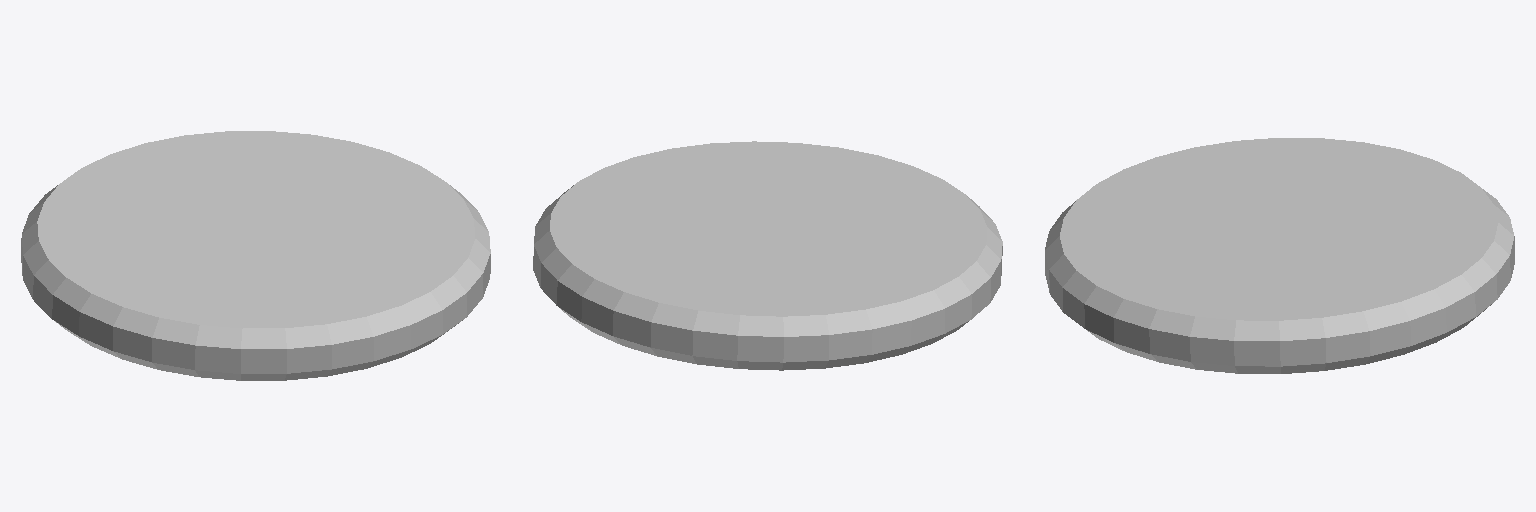
Rendered from burger_meat_1.obj.
3 views of the same model, side by side, from view 1: azimuth 30°, elevation 25°; view 2: azimuth 150°, elevation 25°; view 3: azimuth 270°, elevation 25° (orthographic).
Parts seen in each view (by area): view 1: Cylinder.003; view 2: Cylinder.003; view 3: Cylinder.003.
Part boxes in pixels (left/top/right/bottom): Cylinder.003: left=21, top=131, right=490, bottom=380; Cylinder.003: left=533, top=141, right=1002, bottom=370; Cylinder.003: left=1045, top=138, right=1514, bottom=373.
Bounding box in the file's own units: 2 × 0.3133 × 2.